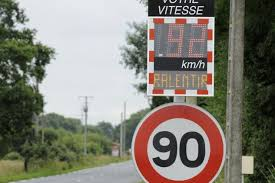Speed_limit_90km: (131, 102, 225, 183)
